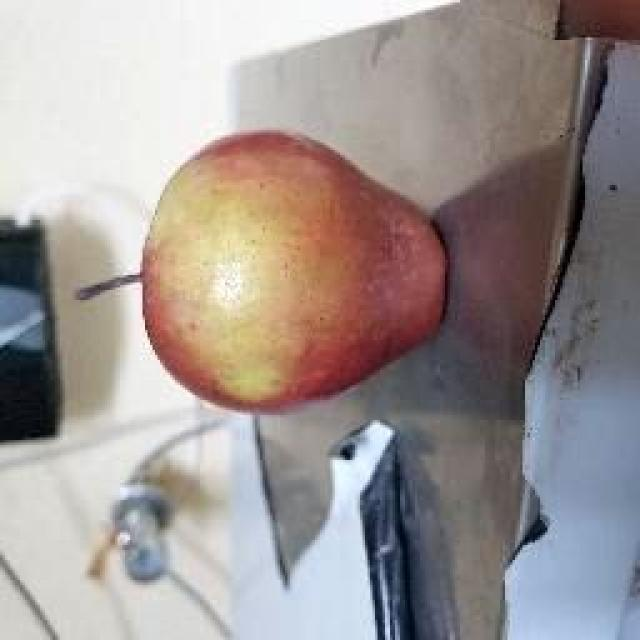Good_Apple: (140, 130, 450, 418)
